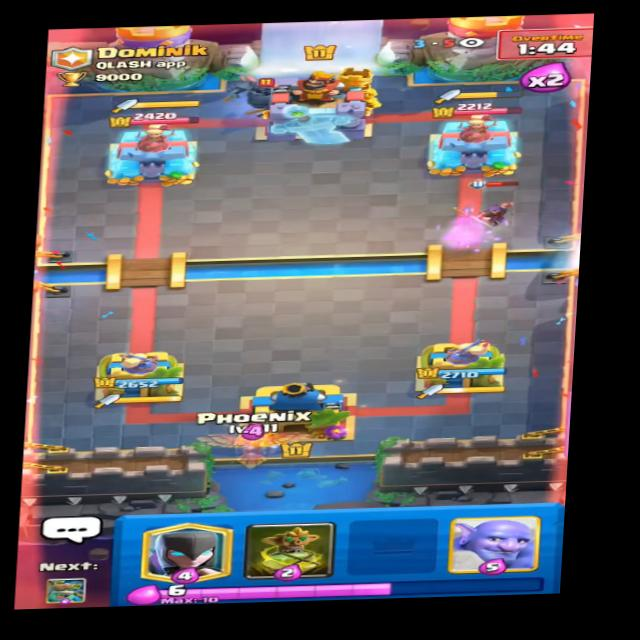evo-wizard: (456, 177, 522, 231)
pekka: (214, 69, 301, 118)
